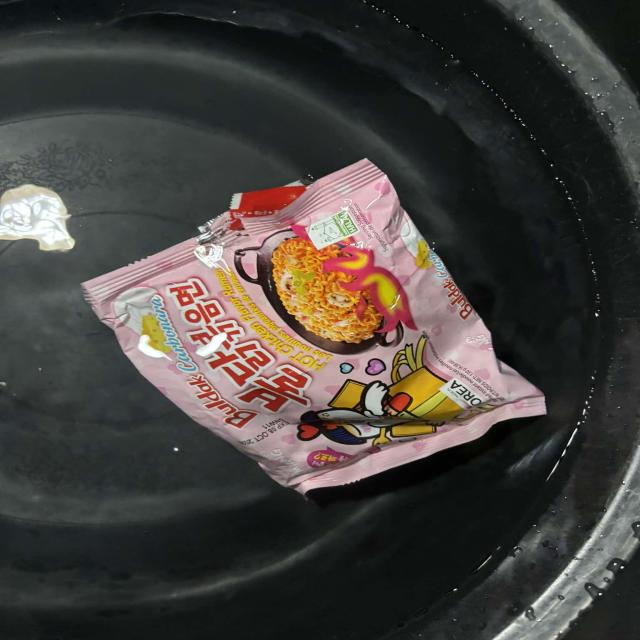Plastic Wrapper: (63, 147, 582, 517)
